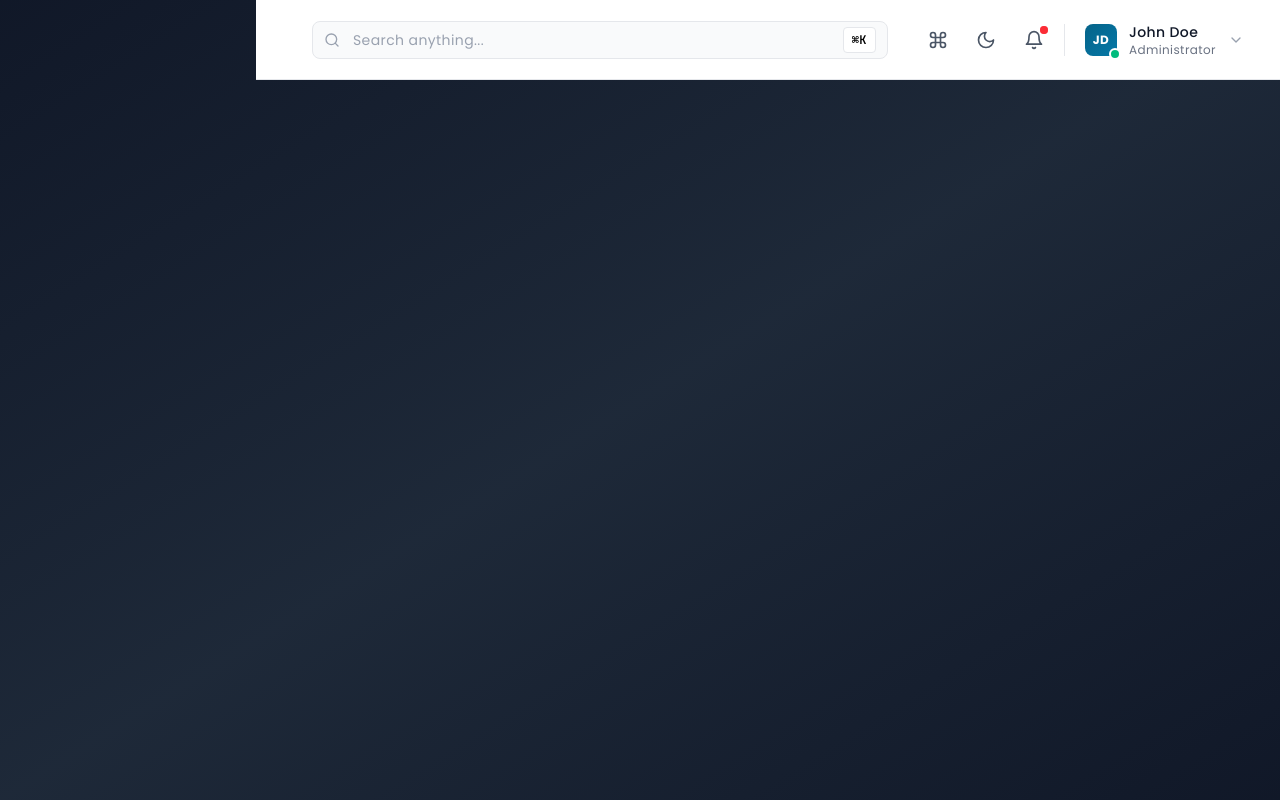
Test case: Header Component › Profile Dropdown › should toggle profile dropdown when clicking profile button
The image size is (1280, 800).
Expected: the text "My Profile" is not shown
// Click profile button
Click the button "JD John Doe Administrator" at (1166,40), box [1077,14,1256,66]
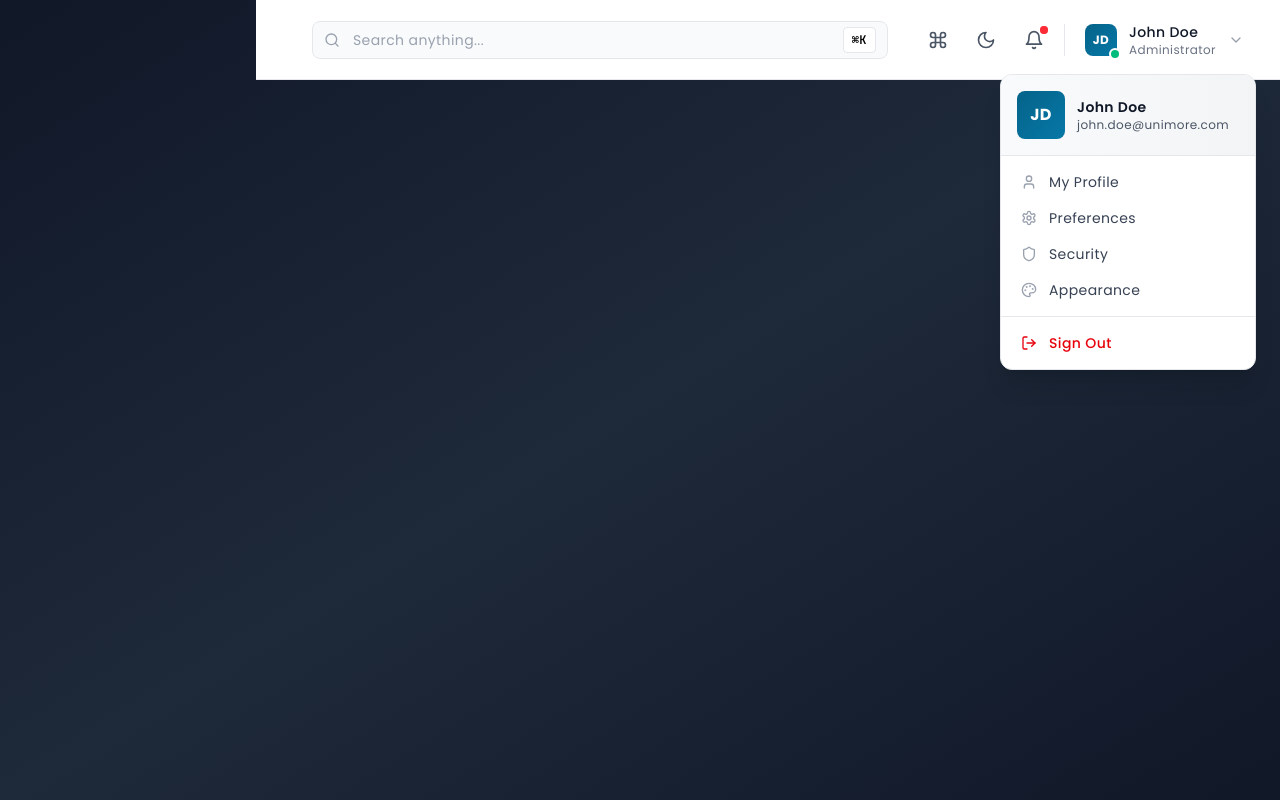
Now the text "My Profile" is shown, box [1049,172,1119,192]
Now the text "Preferences" is shown, box [1049,208,1136,228]
Now the text "Security" is shown, box [1049,244,1108,264]
